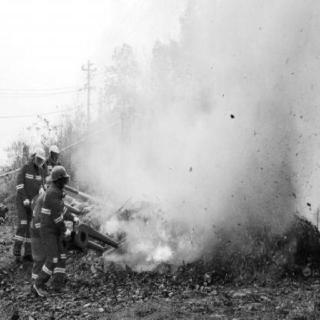Fire: (130, 227, 184, 271)
Smoke: (133, 58, 314, 246)
